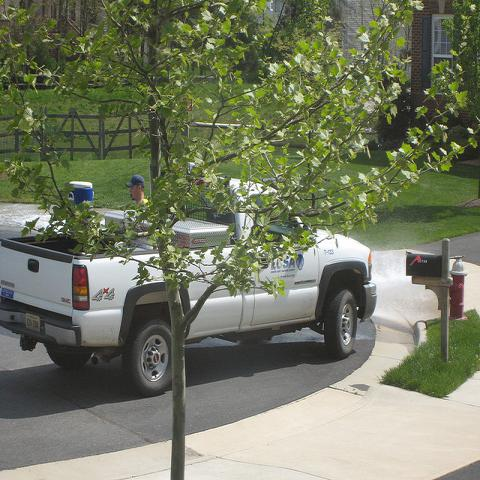truck: (2, 169, 377, 401)
